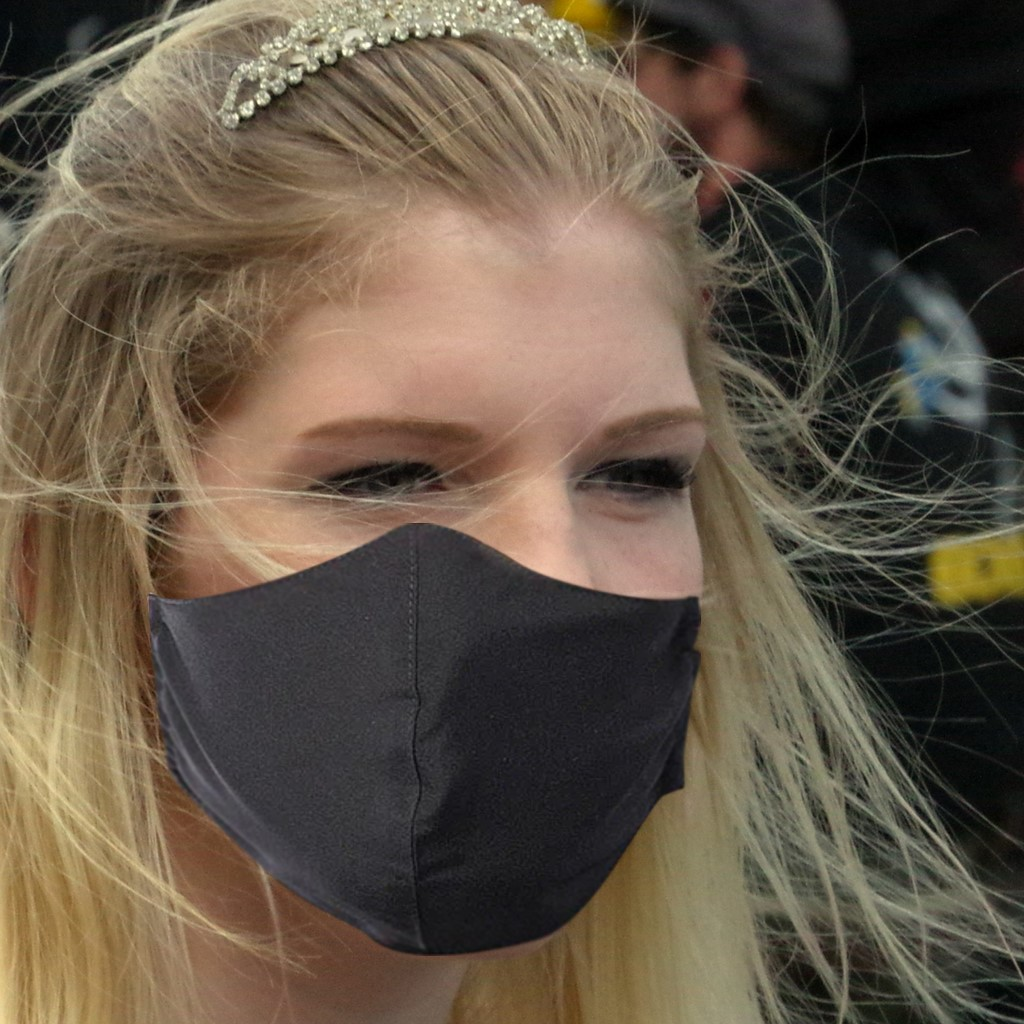con_mascara: (136, 162, 733, 980)
